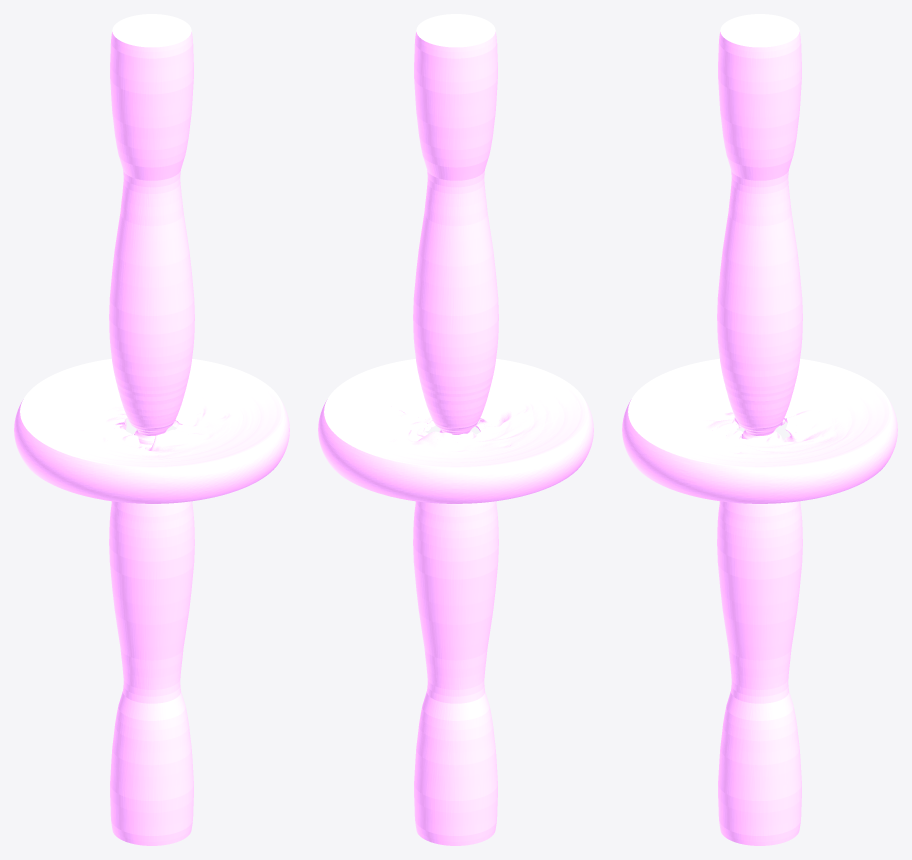
The model's file is neb-dgtau.glb.
The picture shows the model from 3 angles, left to right: view 1: azimuth 30°, elevation 25°; view 2: azimuth 150°, elevation 25°; view 3: azimuth 270°, elevation 25°; orthographic projection.
Parts seen in each view (by area): view 1: DG Tau.stl; view 2: DG Tau.stl; view 3: DG Tau.stl.
Boxes of the visible parts, left/top/right/bottom form: DG Tau.stl: left=14, top=14, right=289, bottom=845; DG Tau.stl: left=318, top=14, right=593, bottom=845; DG Tau.stl: left=622, top=14, right=897, bottom=845.
Bounding box in the file's own units: 98.95 × 316 × 98.95.
